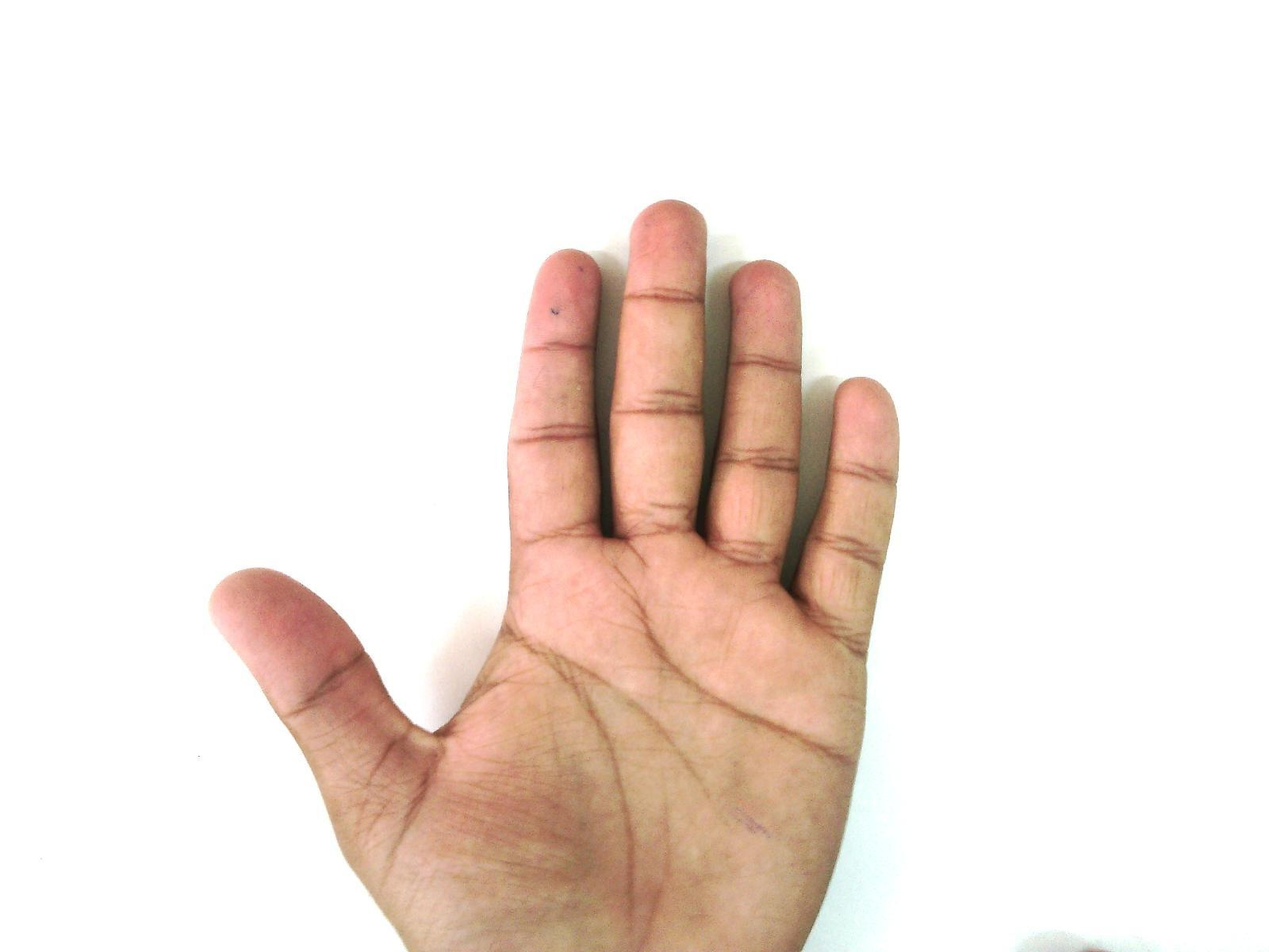open_palm: (208, 198, 904, 951)
